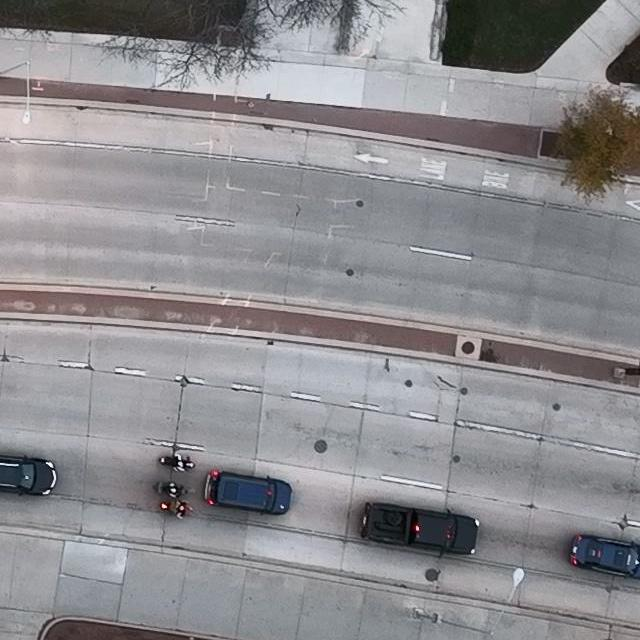car: (359, 502, 479, 555), (203, 468, 293, 515), (568, 534, 640, 580), (0, 453, 57, 496)
